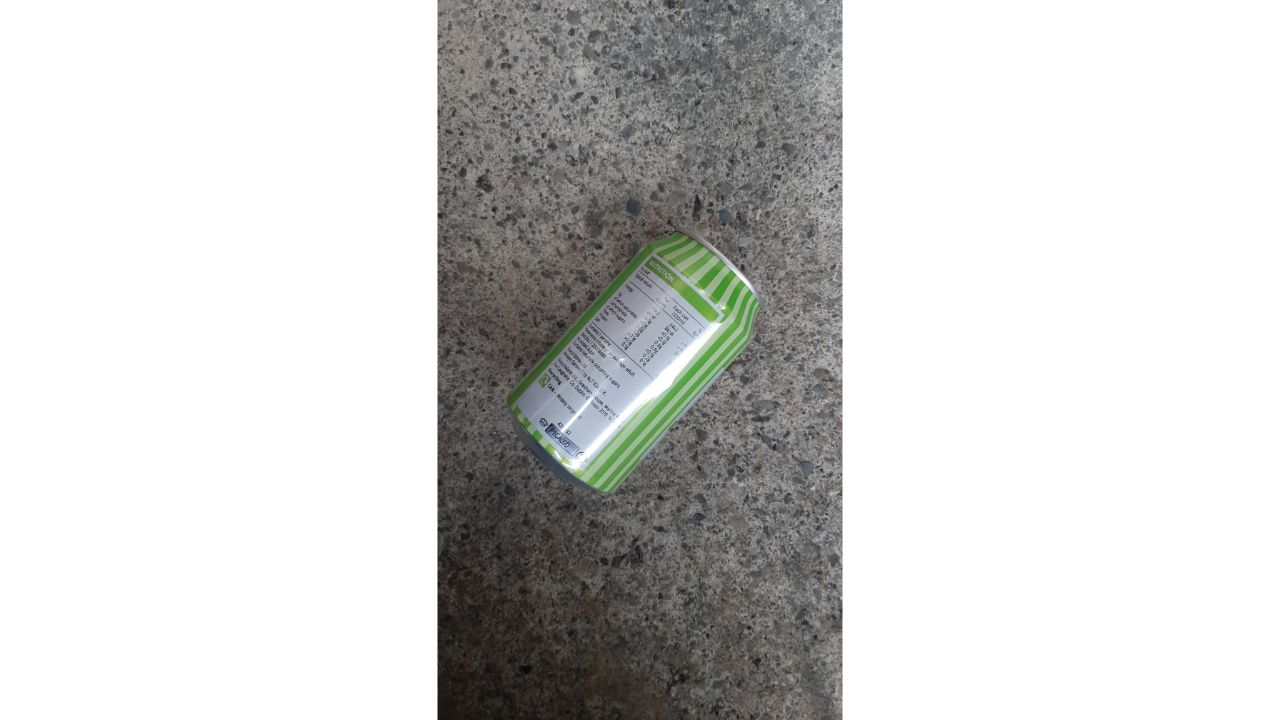Can: (498, 218, 771, 506)
